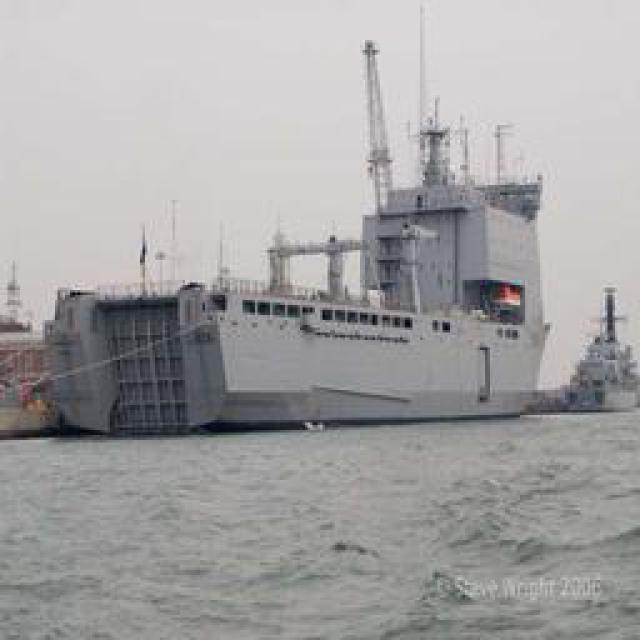Ship: (51, 130, 564, 428)
